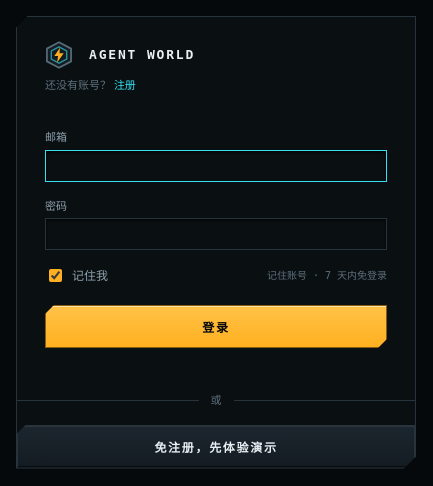
Test case: LoginPage › 登录 › 一次性口令账号：停在改密屏，不进产品
In the field labelled "邮箱": (216, 166) [45,150,387,182], type "mate@aw.test"
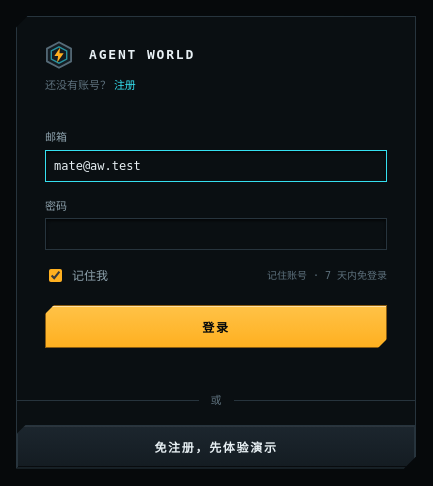
In the password field labelled "密码": (216, 234) [45,218,387,250], type "one-time"
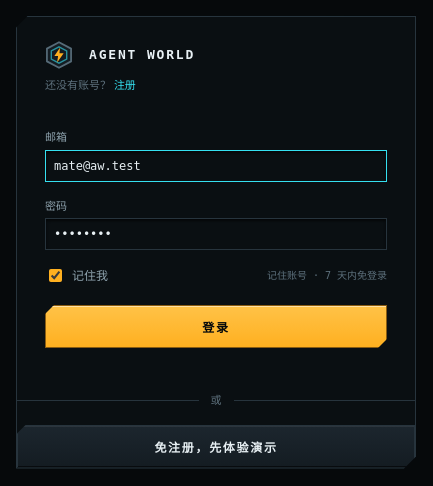
Click the button "登录": (216, 326) [45,305,387,348]
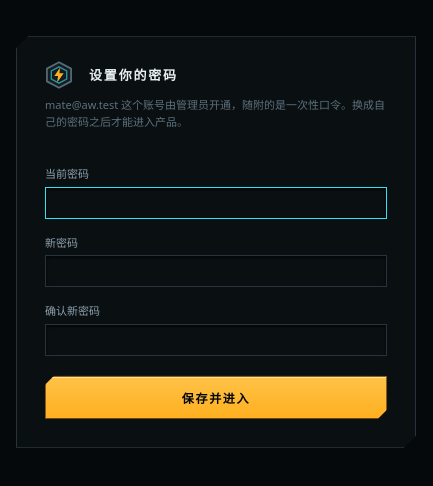
expect the heading "设置你的密码" is shown: met, box [89,66,178,85]
expect the text "mate@aw.test 这个账号由管理员开通，随附的是一次性口令。换成自己的密码之后才能进入产品。" is shown: met, box [17,97,415,130]
